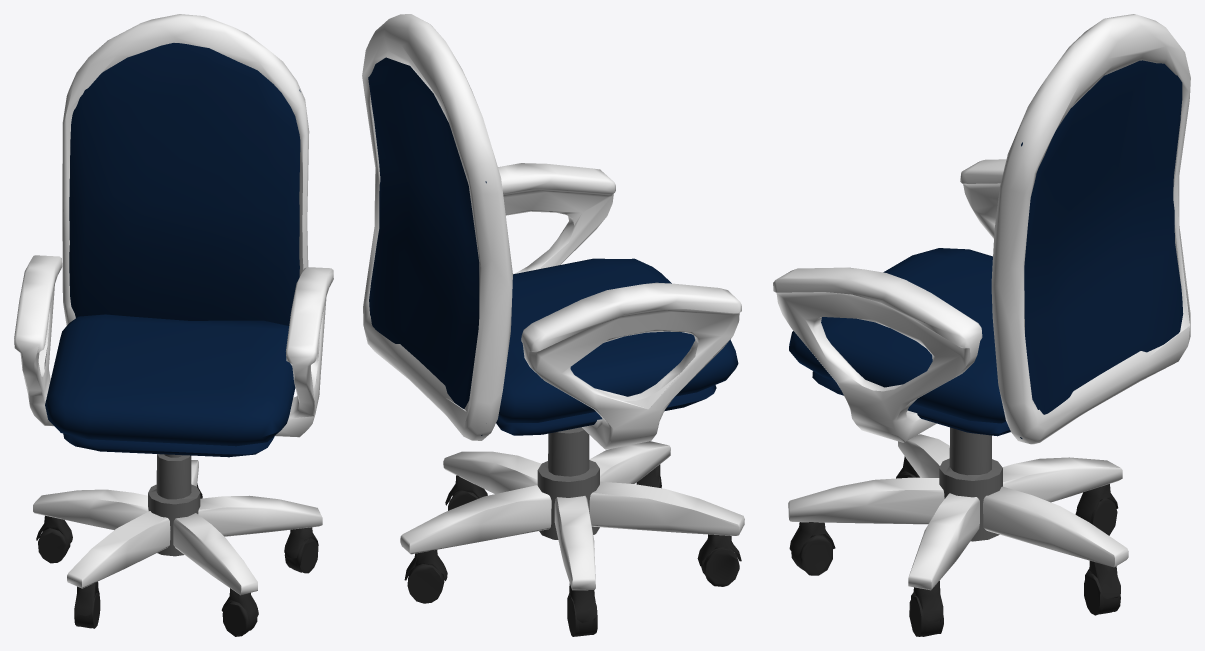
File: SM_Env_ReceptionChair.fbx
3 renders of one model, left to right at view 1: azimuth 30°, elevation 25°; view 2: azimuth 150°, elevation 25°; view 3: azimuth 270°, elevation 25°, orthographic. The views are drawn at different scales.
Parts seen in each view (by area): view 1: SM_Env_ReceptionChair; view 2: SM_Env_ReceptionChair; view 3: SM_Env_ReceptionChair.
Part boxes in pixels (<box>): SM_Env_ReceptionChair: <box>14,14,333,636</box>; SM_Env_ReceptionChair: <box>362,14,744,636</box>; SM_Env_ReceptionChair: <box>773,14,1190,636</box>.
Bounding box in the file's own units: 0.64 × 1 × 0.6397.
